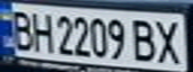0: (87, 15, 109, 60)
2: (51, 11, 75, 56), (69, 12, 90, 59)
9: (106, 15, 130, 61)
B: (127, 16, 160, 63), (6, 6, 36, 52)
H: (27, 8, 57, 54)
X: (151, 16, 187, 65)
